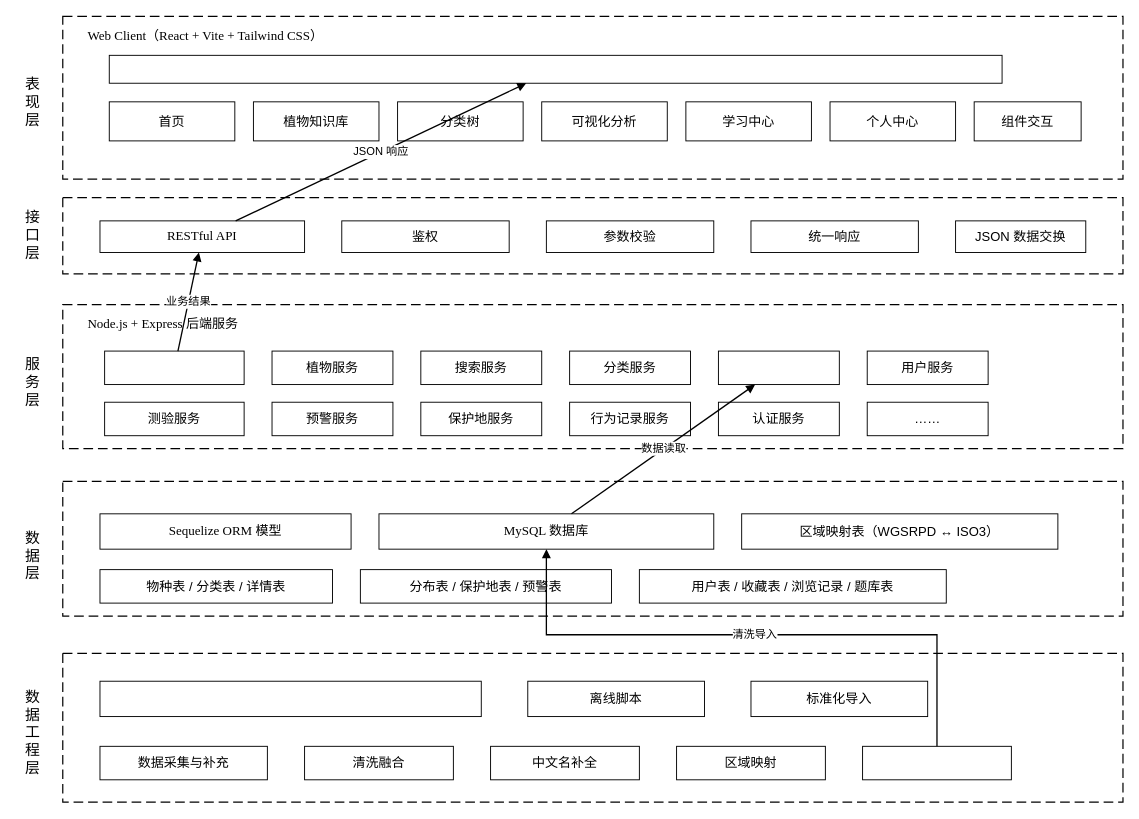
The diagram is 1139 pixels wide and 819 high, and some of its shapes have lost their labels. Here are the shapes that lost their labels. From the top down, the centre of each, then its label:
At (x=555, y=68): "状态驱动页面组件渲染".
At (x=174, y=367): "Controller".
At (x=778, y=367): "分析服务".
At (x=290, y=698): "WCVP / IUCN / WDPA / WGSRPD / iPlant".
At (x=936, y=762): "导入数据库".
